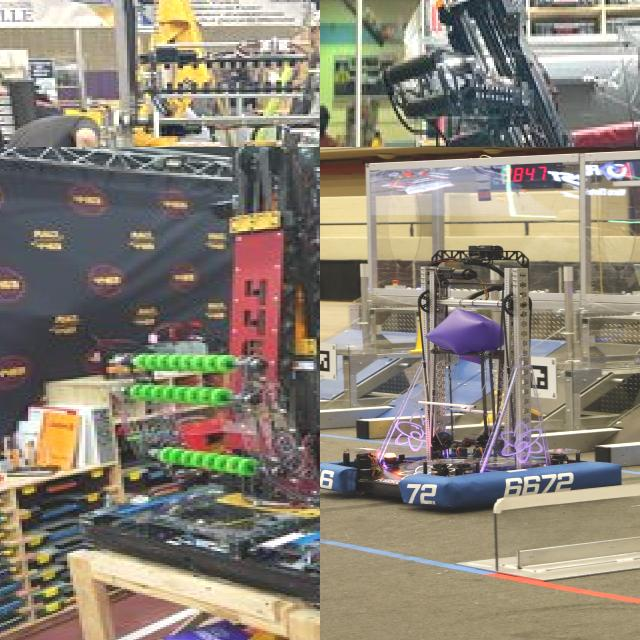FRC-Robots: (69, 147, 320, 605), (320, 237, 640, 529), (336, 0, 640, 147), (81, 0, 320, 147)
